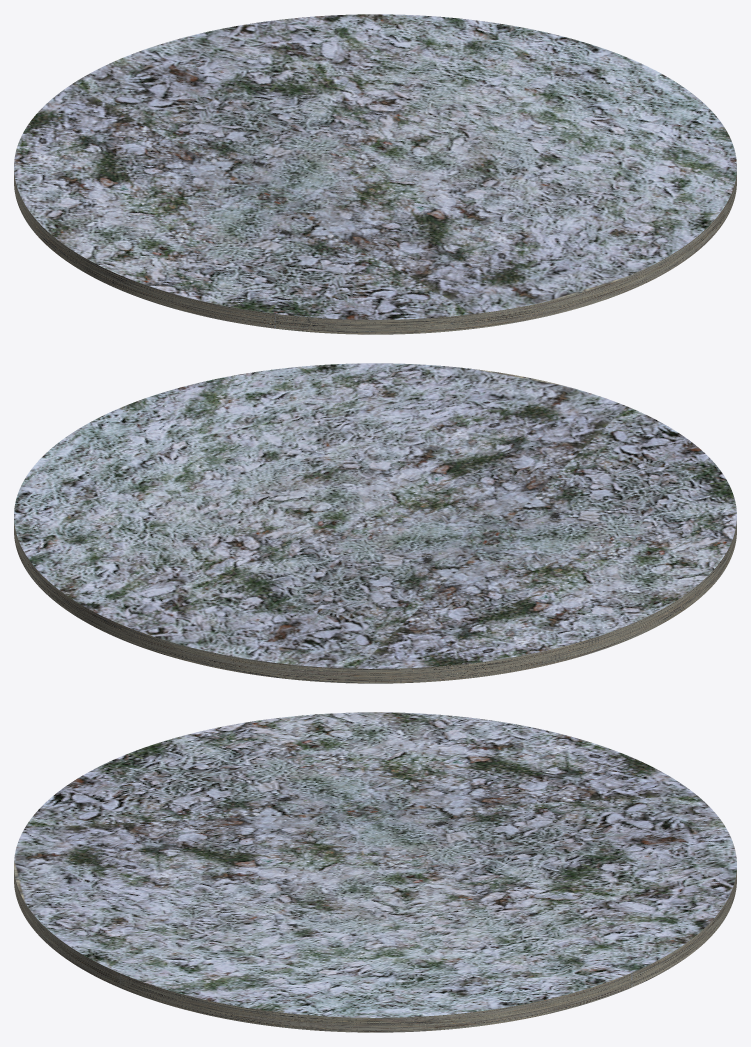
Rendered from ground.glb.
The picture shows the model from 3 angles, top to bottom: view 1: azimuth 30°, elevation 25°; view 2: azimuth 150°, elevation 25°; view 3: azimuth 270°, elevation 25°; orthographic projection.
Visible parts, largest first — view 1: Cylinder.001; view 2: Cylinder.001; view 3: Cylinder.001.
Part boxes in pixels (x1,y1,x2,y2): Cylinder.001: (14,14,736,334); Cylinder.001: (14,363,736,683); Cylinder.001: (14,712,736,1032).
Size of the model in its own units: 16.41 by 0.3714 by 16.41.
Materials: 1 (1 with a texture image).
